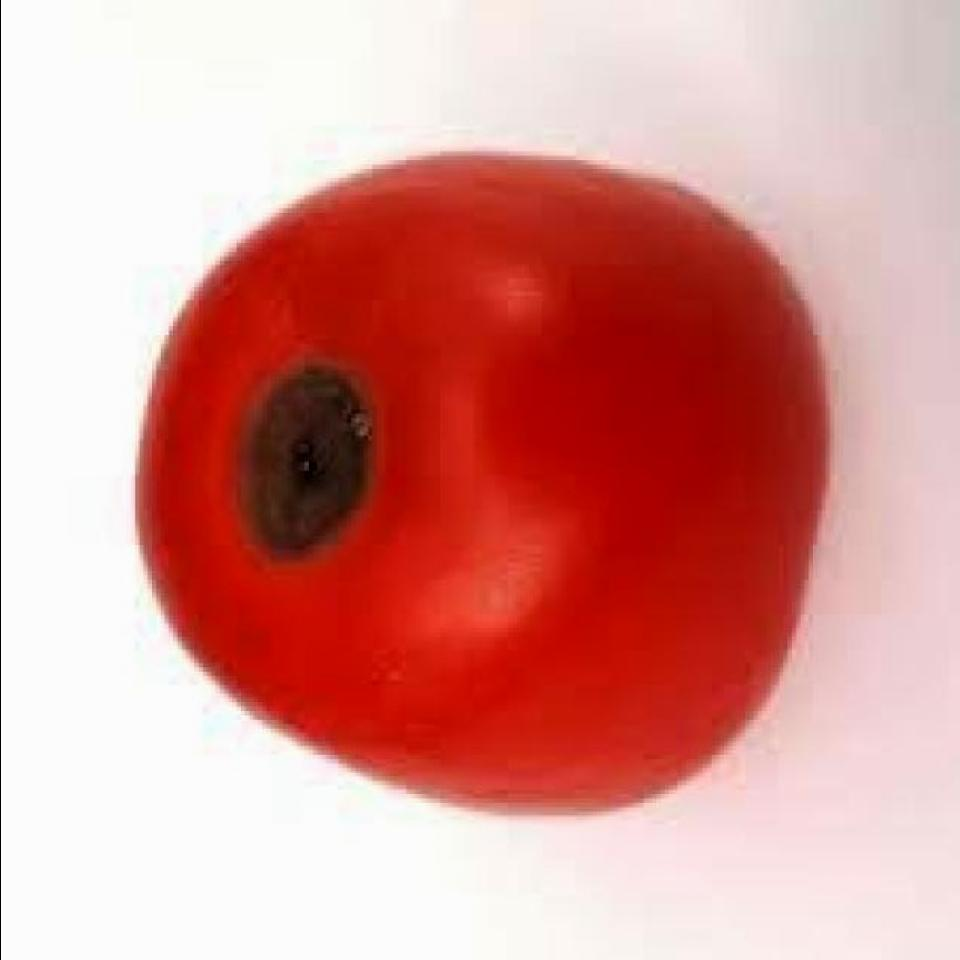Blossom_end_rot: (210, 349, 380, 593)
